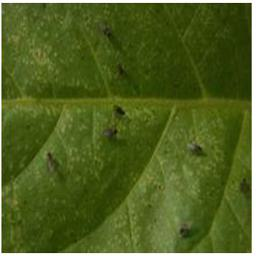liriomyza: (178, 219, 193, 237), (45, 150, 57, 172), (189, 140, 203, 154), (101, 125, 117, 137), (112, 103, 128, 115)
